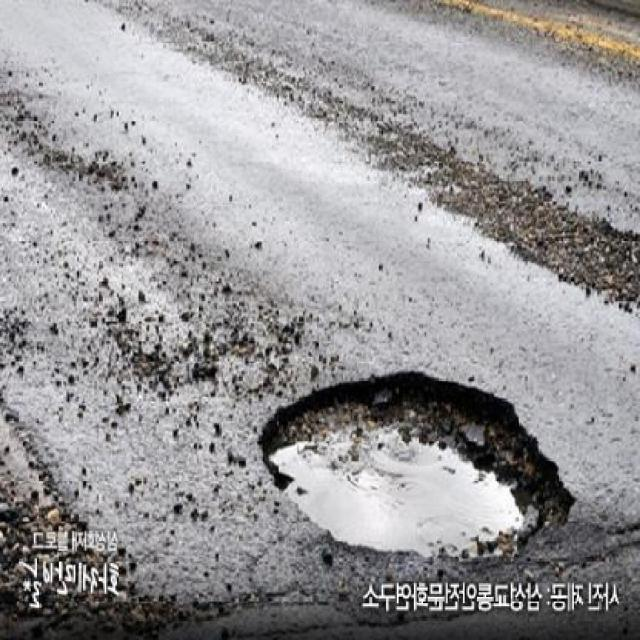pothole: (248, 357, 585, 568)
